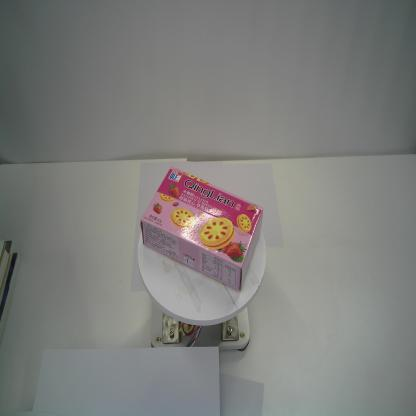Dessert: (139, 165, 264, 291)
